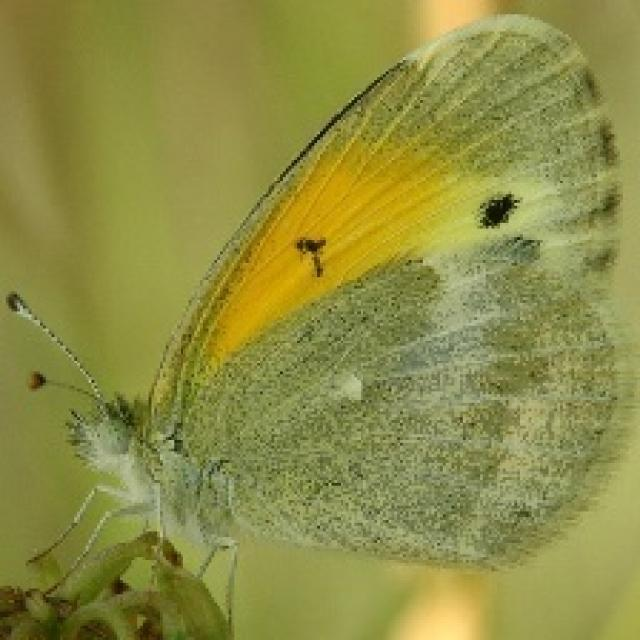butterfly: (9, 14, 630, 640)
